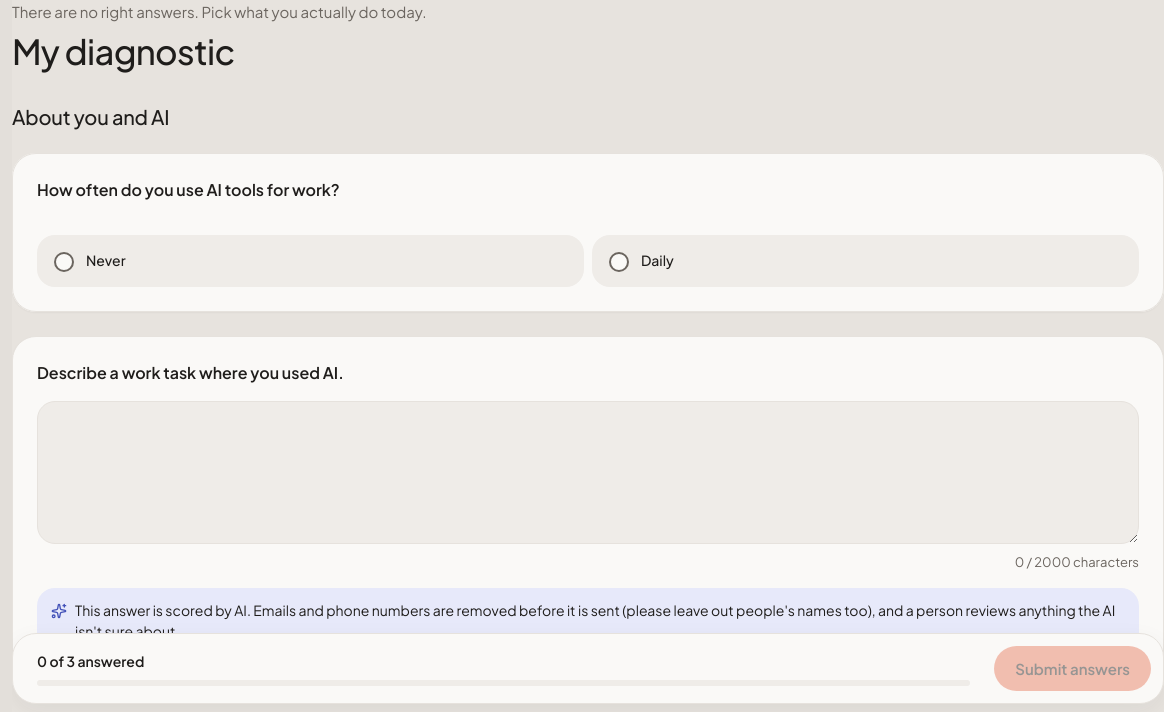
Test: Diagnostic › keeps Submit disabled until every question is answered
Expected: the text "0 of 3 answered" is shown, top-left (37, 652), bottom-right (144, 670)
Expected: the button "Submit answers" is disabled, top-left (994, 646), bottom-right (1151, 691)
Click the radio button labelled "Daily": point(619, 262) top-left (609, 252), bottom-right (629, 272)
(page scrolled)
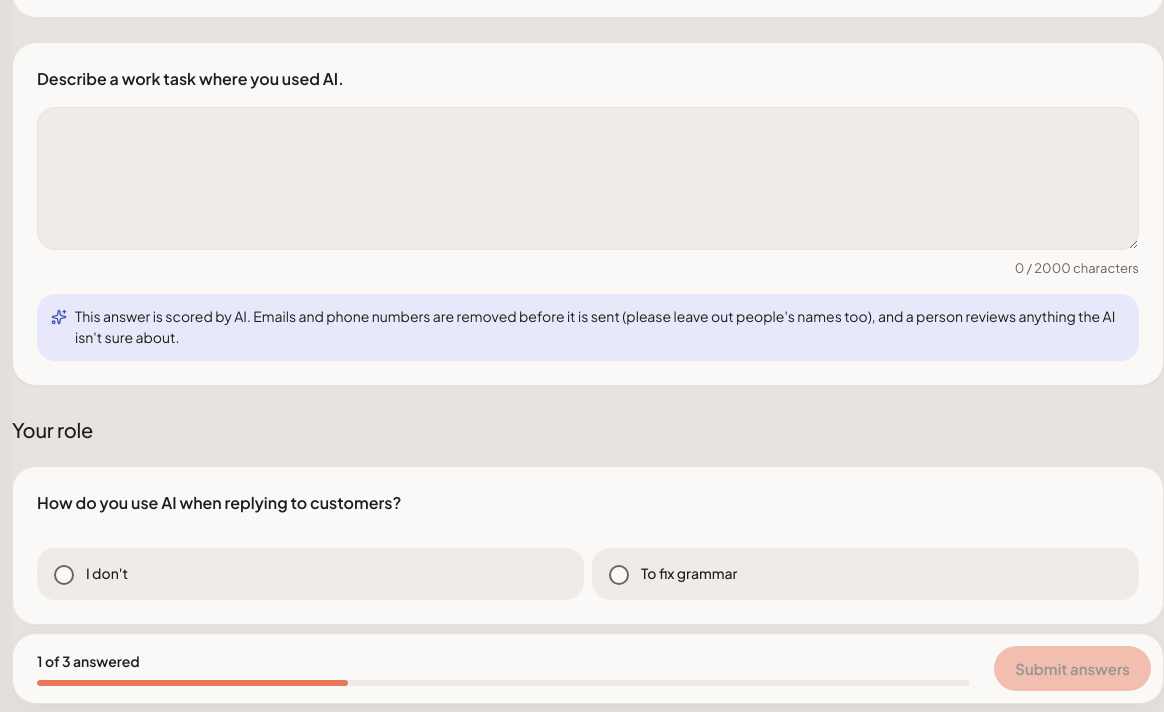
Click the radio button labelled "To fix grammar": point(619, 575) top-left (609, 565), bottom-right (629, 585)
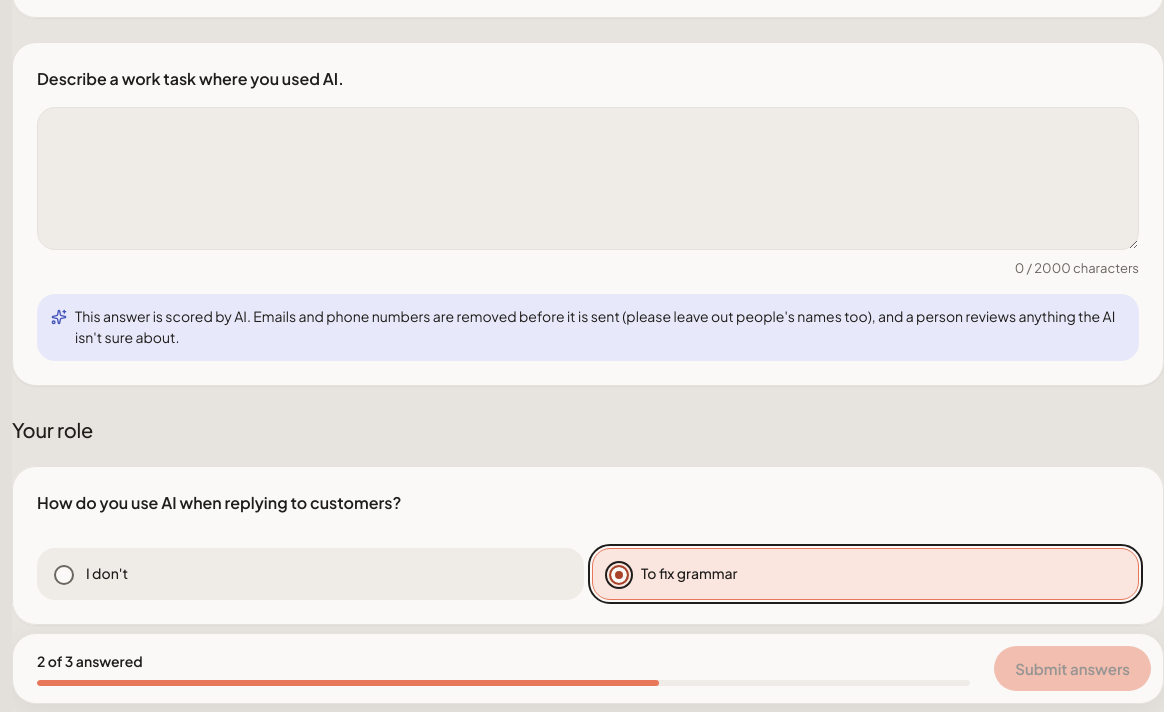
Expected: the button "Submit answers" is disabled, top-left (994, 646), bottom-right (1151, 691)
Result: the text "2 of 3 answered" is shown at top-left (37, 652), bottom-right (143, 670)
In the text box labelled "Describe a work task where you used AI.": point(588, 178) top-left (37, 107), bottom-right (1139, 250), type "I drafted a reply."
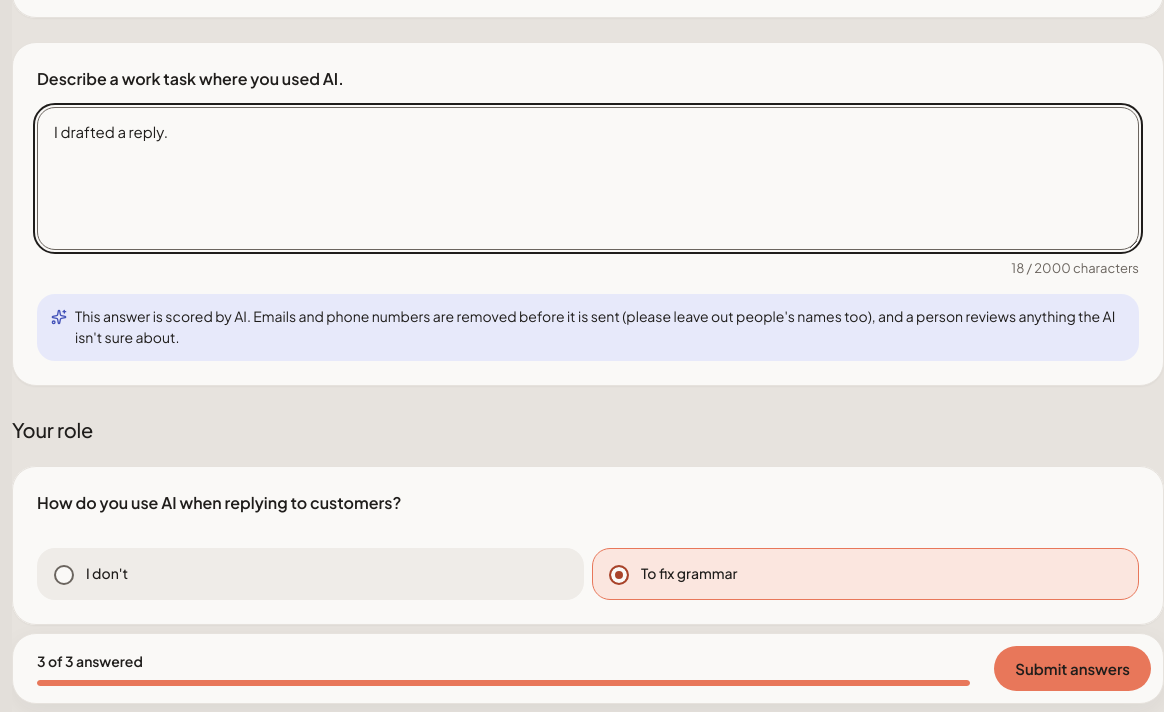
Result: the text "3 of 3 answered" is shown at top-left (37, 652), bottom-right (143, 670)
Result: the text "18 / 2000 characters" is shown at top-left (1011, 260), bottom-right (1139, 276)
Result: the button "Submit answers" is enabled at top-left (994, 646), bottom-right (1151, 691)
